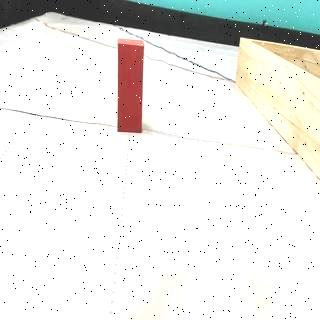redbox: (115, 36, 145, 134)
